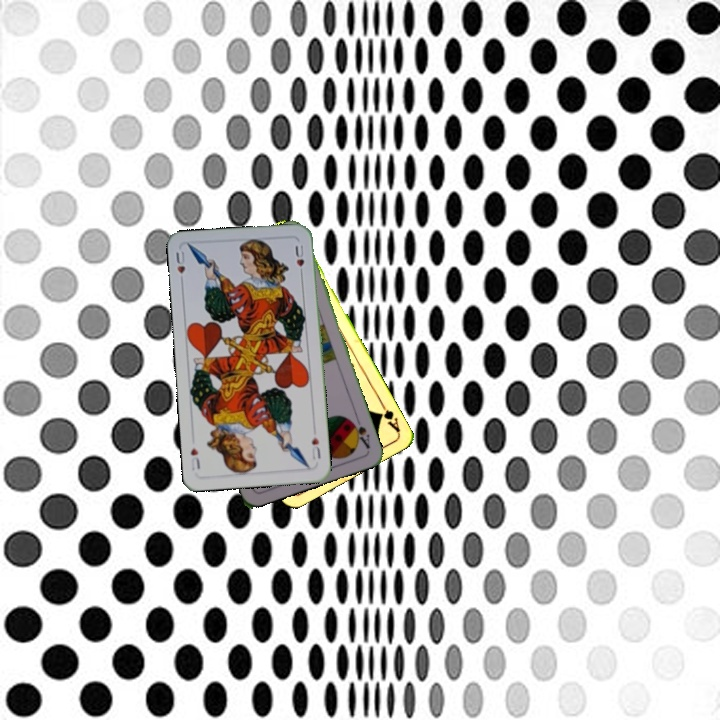GA: (374, 397, 402, 434)
HU: (172, 247, 188, 287), (308, 433, 323, 462)
SA: (346, 412, 372, 451)
